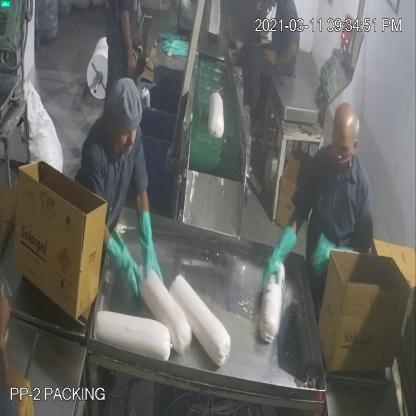glove: (256, 216, 300, 294), (110, 230, 144, 308), (137, 205, 164, 293)
no_glove: (0, 282, 18, 409), (118, 3, 143, 77), (258, 38, 300, 78)
